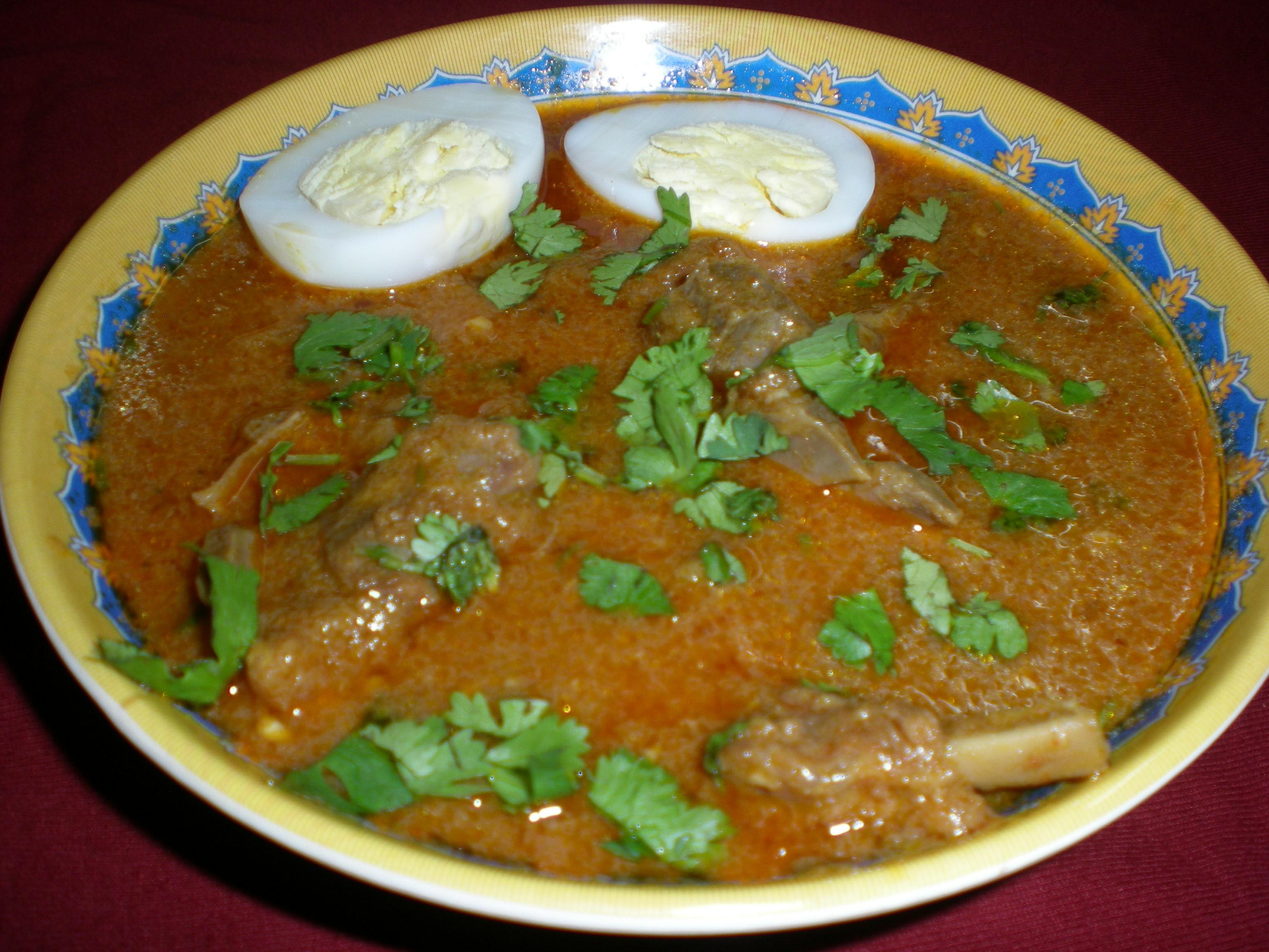MuttonCurry: (102, 92, 1205, 874)
